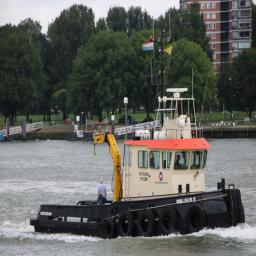tugboat: (30, 85, 248, 245)
